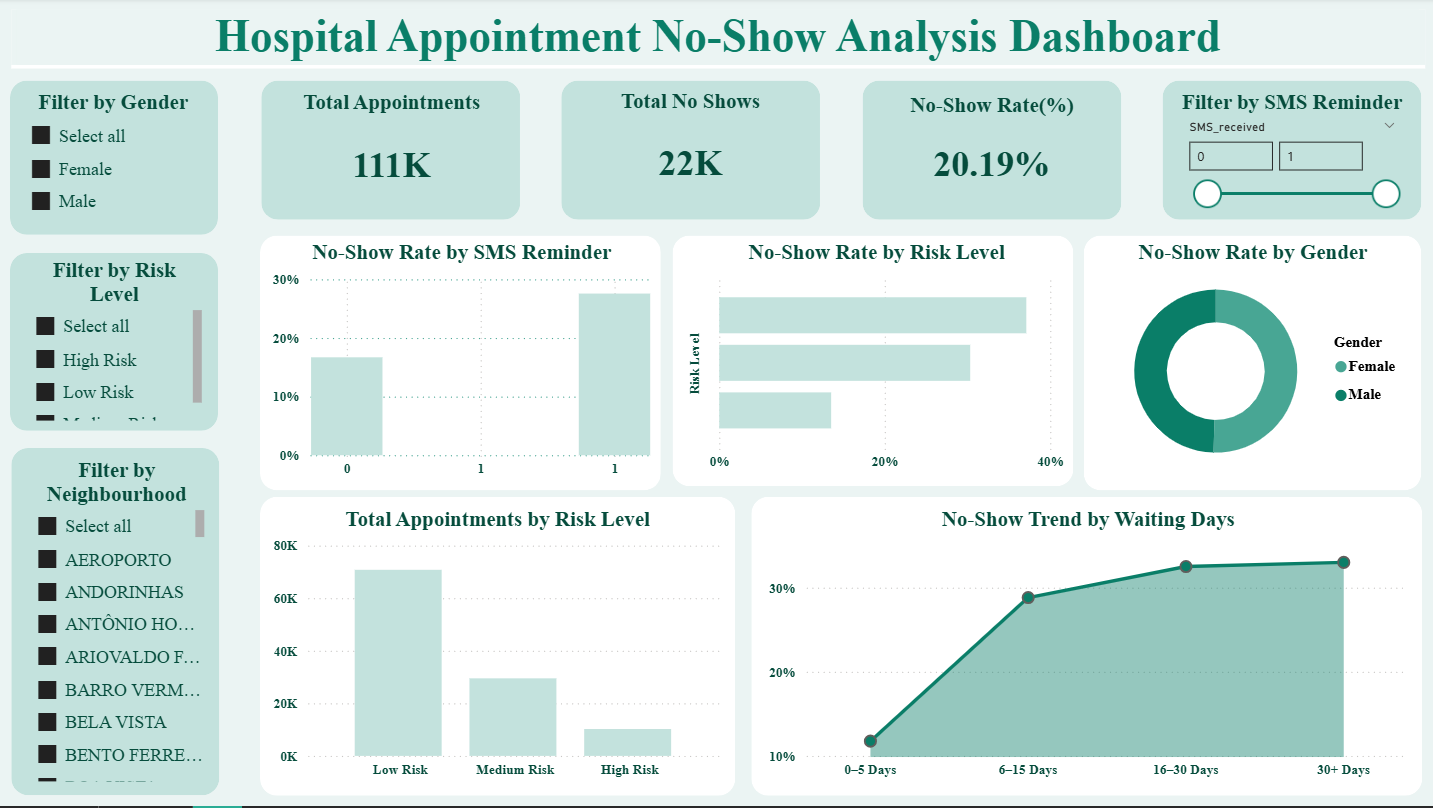

The page's visual inventory and layout, read from the dashboard file:
{"tool":"powerbi","page":{"name":"Page 1","canvas":[1280,720],"ordinal":0},"visuals":[{"type":"shape","box":[232.2,73.6,230.7,123.9],"z":0},{"type":"card","title":"Total Appointments","fields":{"Values":["No show appointments.Total Appointments"]},"box":[255.2,82.2,187.7,109.2],"z":1000},{"type":"textbox","title":"Hospital Appointment No-Show Analysis Dashboard","box":[9.8,9.8,1258.9,52.8],"z":2000},{"type":"shape","box":[500,73.6,230.7,123.9],"z":3000},{"type":"shape","box":[767.8,73.6,230.7,123.9],"z":4000},{"type":"shape","box":[1035.6,73.6,230.7,123.9],"z":5000},{"type":"card","title":"Total No Shows","fields":{"Values":["No show appointments.Total No Shows"]},"box":[521.5,81,187.7,109.2],"z":6000},{"type":"card","title":"No-Show Rate(%)","fields":{"Values":["No show appointments.NoShow Rate"]},"box":[780.4,84.7,206.1,103.1],"z":7000},{"type":"slicer","title":"Filter by SMS Reminder","fields":{"Values":["No show appointments.SMS_received"]},"box":[1046.6,82.2,208.6,109.2],"z":8000},{"type":"shape","box":[9.2,73.6,185.3,137.4],"z":9000},{"type":"shape","box":[8.6,227,185.3,158.3],"z":10000},{"type":"shape","box":[9.8,401.2,185.3,309.2],"z":11000},{"type":"slicer","title":"Filter by Gender","fields":{"Values":["No show appointments.Gender"]},"box":[16,82.2,170.6,120.2],"z":12000},{"type":"slicer","title":"Filter by Risk Level","fields":{"Values":["No show appointments.Risk Level"]},"box":[18.4,231.9,165.6,149.7],"z":13000},{"type":"slicer","title":"Filter by Neighbourhood","fields":{"Values":["No show appointments.Neighbourhood"]},"box":[20.9,409.8,165.6,293.3],"z":14000},{"type":"shape","box":[231.9,211,357.1,227],"z":15000},{"type":"clusteredColumnChart","title":"No-Show Rate by SMS Reminder","fields":{"Category":["No show appointments.SMS_received"],"Y":["No show appointments.NoShow Rate"]},"box":[238,216,346,218.4],"z":16000},{"type":"shape","box":[231.9,444.2,423.3,266.3],"z":17000},{"type":"clusteredColumnChart","title":"Total Appointments by Risk Level","fields":{"Category":["No show appointments.Risk Level"],"Y":["No show appointments.Total Appointments"]},"box":[238,452.8,409.8,249.1],"z":18000},{"type":"shape","box":[668.7,444.2,597.5,266.3],"z":19000},{"type":"lineChart","title":"No-Show Trend by Waiting Days","fields":{"Category":["No show appointments.WaitingDays Group"],"Y":["No show appointments.NoShow Rate"]},"box":[679.8,452.8,577.9,249.1],"z":20000},{"type":"shape","box":[598.8,211,357.1,223.3],"z":21000},{"type":"clusteredBarChart","title":"No-Show Rate by Risk Level","fields":{"Category":["No show appointments.Risk Level"],"Y":["No show appointments.NoShow Rate"]},"box":[608.6,216,343.6,212.3],"z":22000},{"type":"shape","box":[965.6,211,300.6,227],"z":23000},{"type":"donutChart","title":"No-Show Rate by Gender","fields":{"Category":["No show appointments.Gender"],"Y":["No show appointments.NoShow Rate"]},"box":[973,216,285.9,212.3],"z":24000}]}

Visuals, with their boxes in screenshot pixels (x1, y1, x2, y2), scaled from the page's 1280x720 canvas onto the 1433x808 screenshot:
shape: BBox(260, 83, 518, 222)
"Total Appointments" card: BBox(286, 92, 496, 215)
"Hospital Appointment No-Show Analysis Dashboard" textbox: BBox(11, 11, 1420, 70)
shape: BBox(560, 83, 818, 222)
shape: BBox(860, 83, 1118, 222)
shape: BBox(1159, 83, 1418, 222)
"Total No Shows" card: BBox(584, 91, 794, 213)
"No-Show Rate(%)" card: BBox(874, 95, 1104, 211)
"Filter by SMS Reminder" slicer: BBox(1172, 92, 1405, 215)
shape: BBox(10, 83, 218, 237)
shape: BBox(10, 255, 217, 432)
shape: BBox(11, 450, 218, 797)
"Filter by Gender" slicer: BBox(18, 92, 209, 227)
"Filter by Risk Level" slicer: BBox(21, 260, 206, 428)
"Filter by Neighbourhood" slicer: BBox(23, 460, 209, 789)
shape: BBox(260, 237, 659, 492)
"No-Show Rate by SMS Reminder" clusteredColumnChart: BBox(266, 242, 654, 487)
shape: BBox(260, 498, 734, 797)
"Total Appointments by Risk Level" clusteredColumnChart: BBox(266, 508, 725, 788)
shape: BBox(749, 498, 1418, 797)
"No-Show Trend by Waiting Days" lineChart: BBox(761, 508, 1408, 788)
shape: BBox(670, 237, 1070, 487)
"No-Show Rate by Risk Level" clusteredBarChart: BBox(681, 242, 1066, 481)
shape: BBox(1081, 237, 1418, 492)
"No-Show Rate by Gender" donutChart: BBox(1089, 242, 1409, 481)
